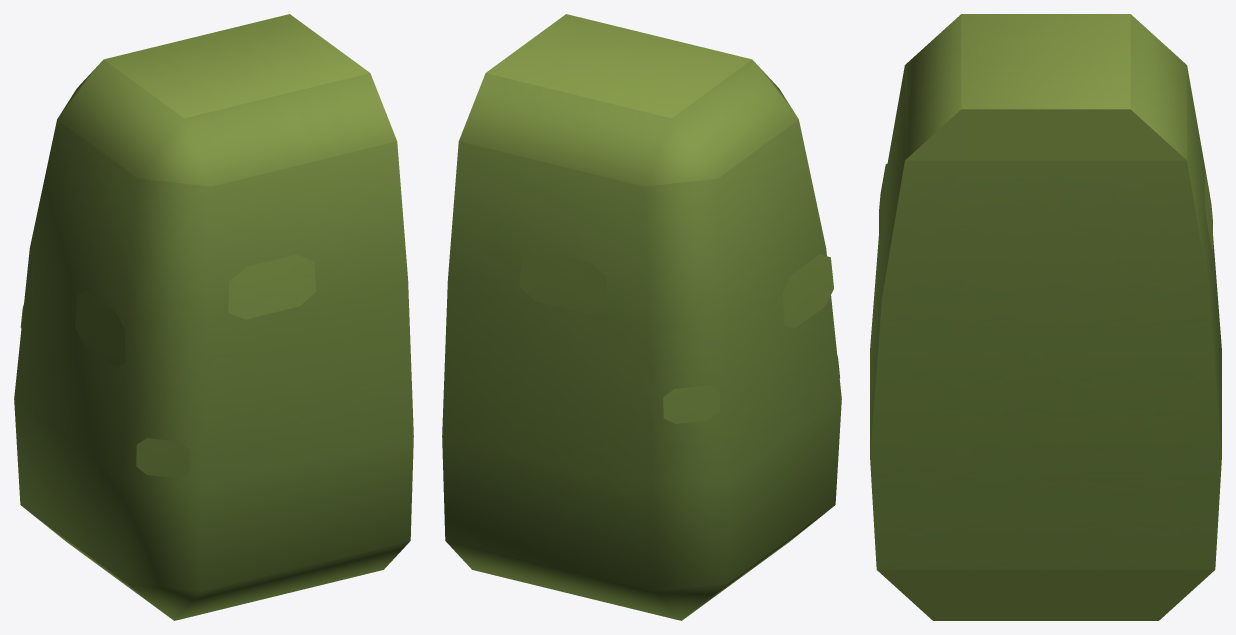
Rendered from hedge_element_end.fbx.
3 views of the same model, side by side, from view 1: azimuth 30°, elevation 25°; view 2: azimuth 150°, elevation 25°; view 3: azimuth 270°, elevation 25° (orthographic). The views are drawn at different scales.
Visible parts, largest first — view 1: hedge_element_end; view 2: hedge_element_end; view 3: hedge_element_end.
Part boxes in pixels (x1,y1,x2,y2): hedge_element_end: (14,14,413,620); hedge_element_end: (442,14,841,620); hedge_element_end: (870,14,1221,620).
Size of the model in its own units: 112 by 200 by 125.
